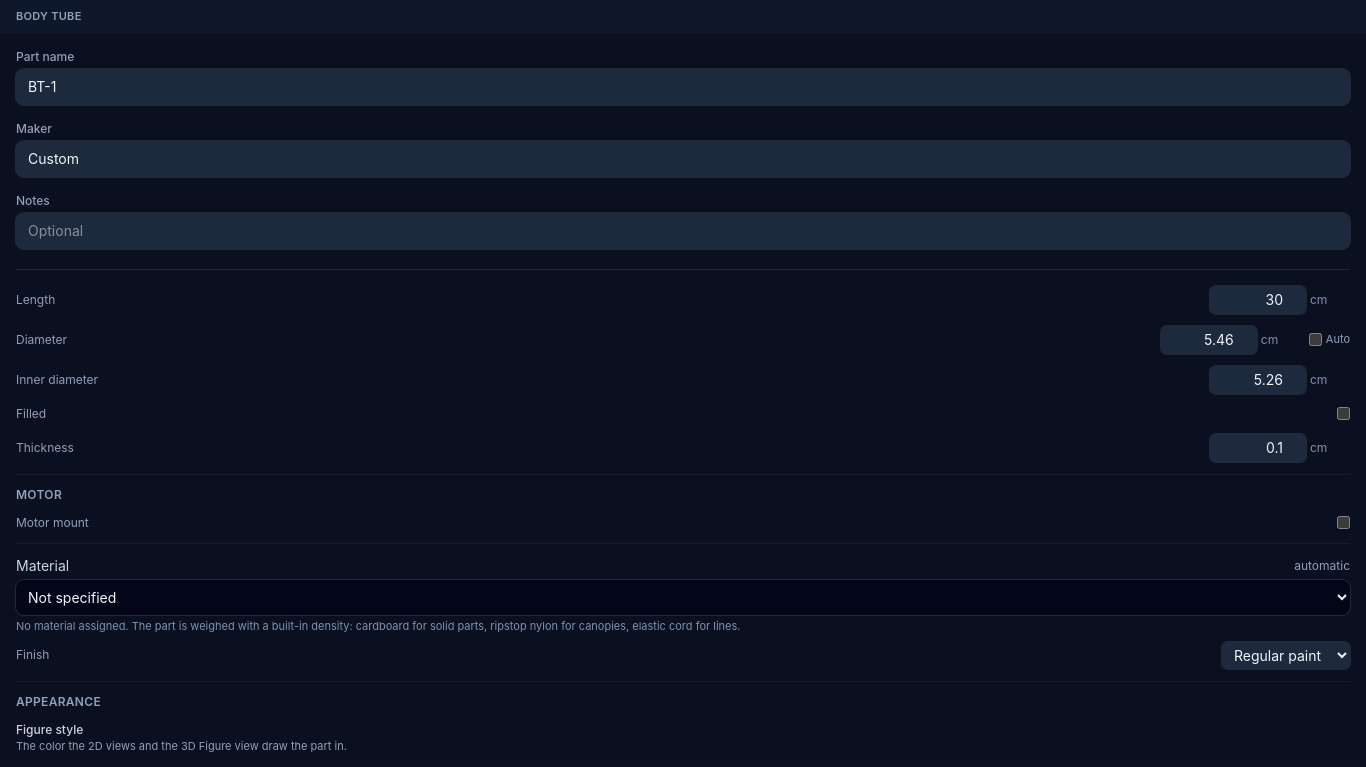
the failure line is a live region mounted before the failure › SavedPartEditor: a refused update
Expected: the message does not show "Another part has that name"
Note: Save is disabled until something changed.
Replace the text in the field labelled "Part name" with "BT-2" at (683, 86), box [16, 68, 1350, 104]
(page scrolled)
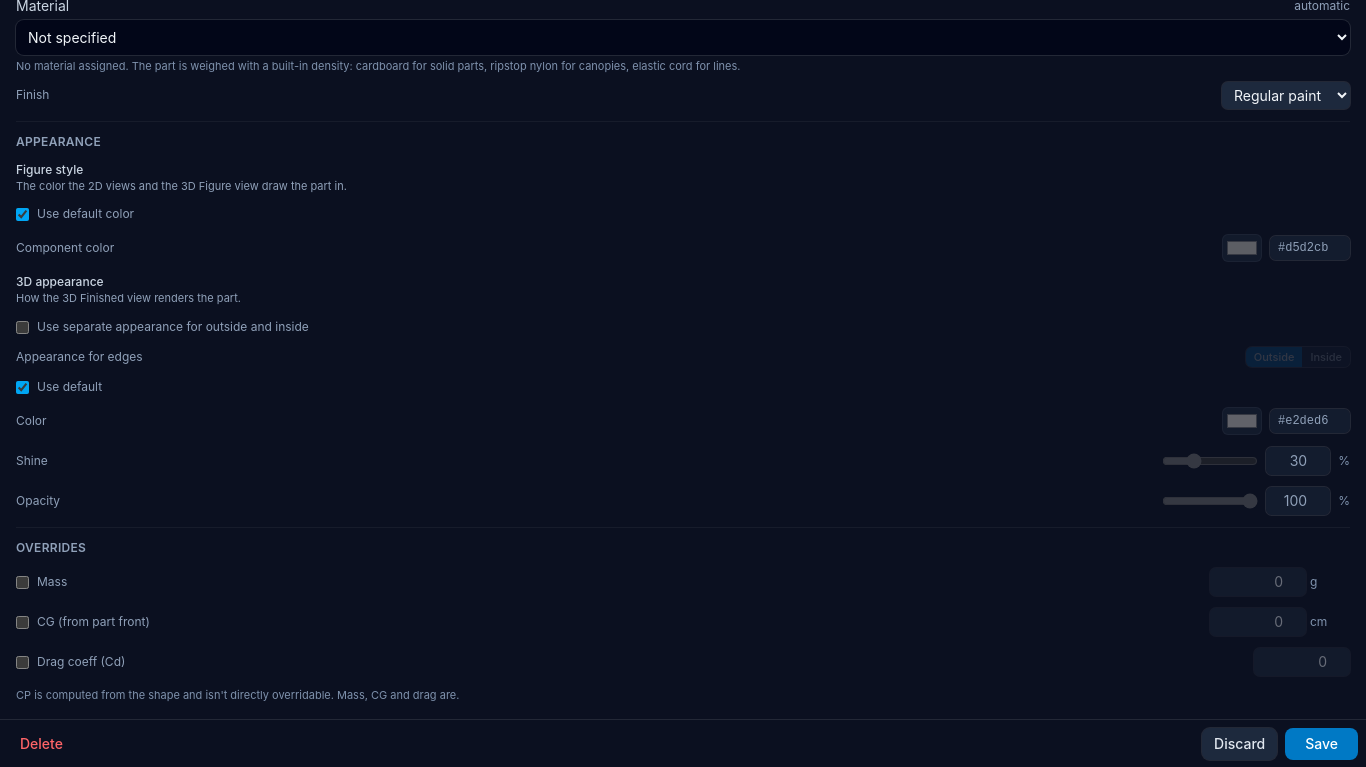
Click the button "Save" at (1322, 744), box [1285, 728, 1358, 760]
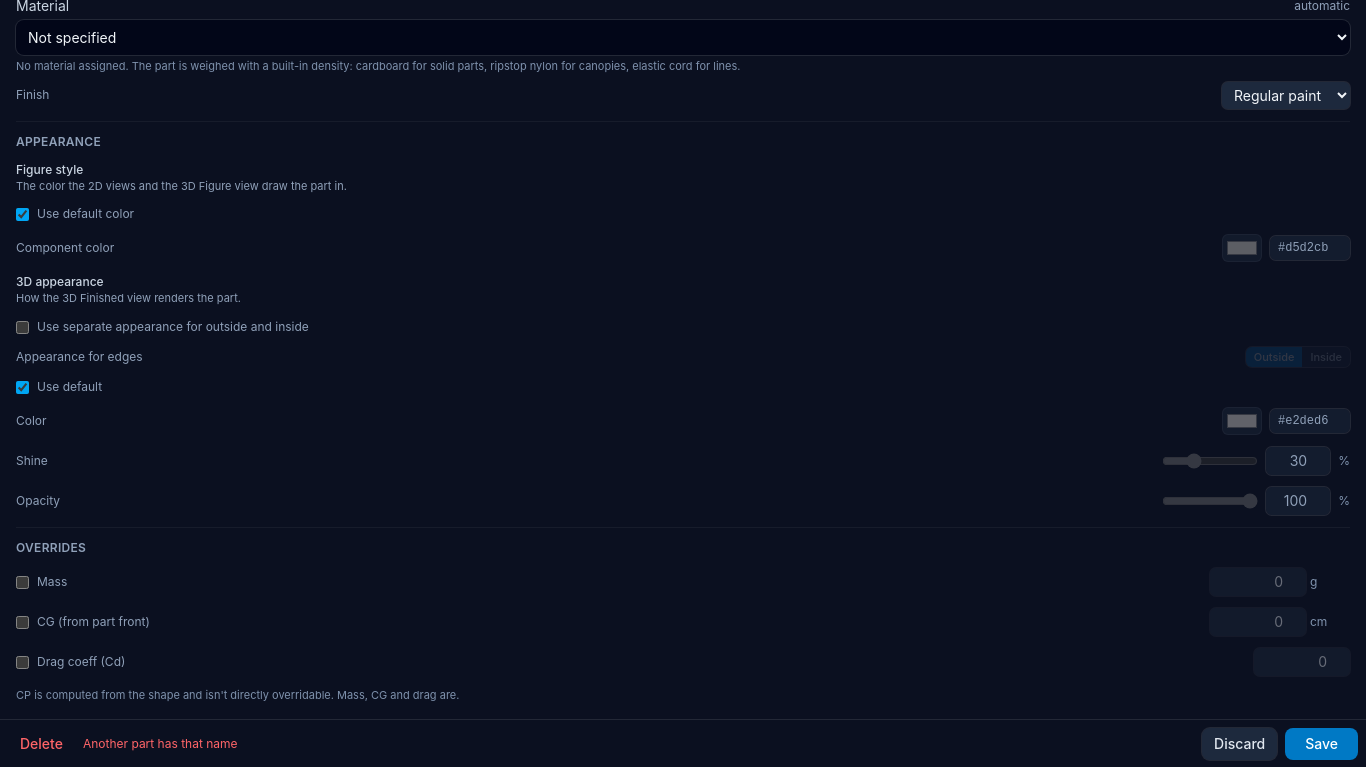
Expected: the message reads "Another part has that name", [83, 736, 238, 751]
